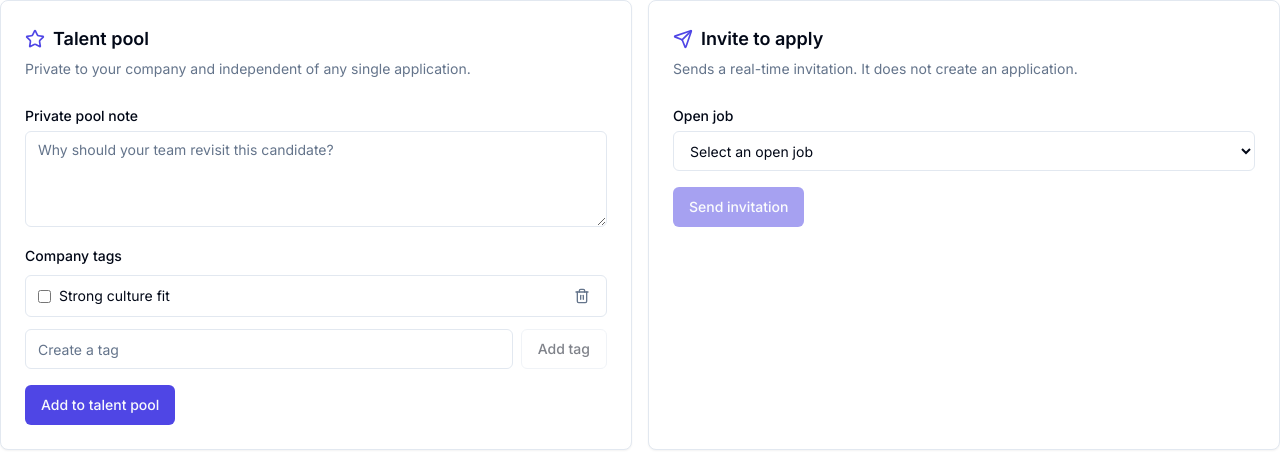
Scenario: TalentPoolSection › only offers open jobs and sends an invitation
Step 1. Select "Staff Engineer" in the dropdown labelled "Open job" → {"x": 964, "y": 151}, box x1=673 y1=131 x2=1255 y2=171
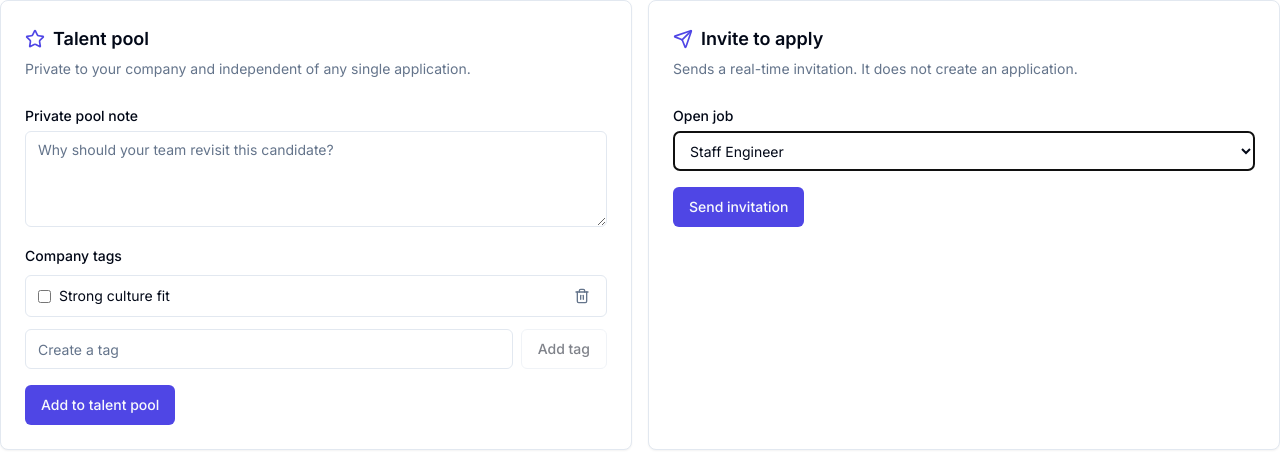
Step 2. Click the button "Send invitation" → {"x": 739, "y": 207}, box x1=673 y1=187 x2=804 y2=227
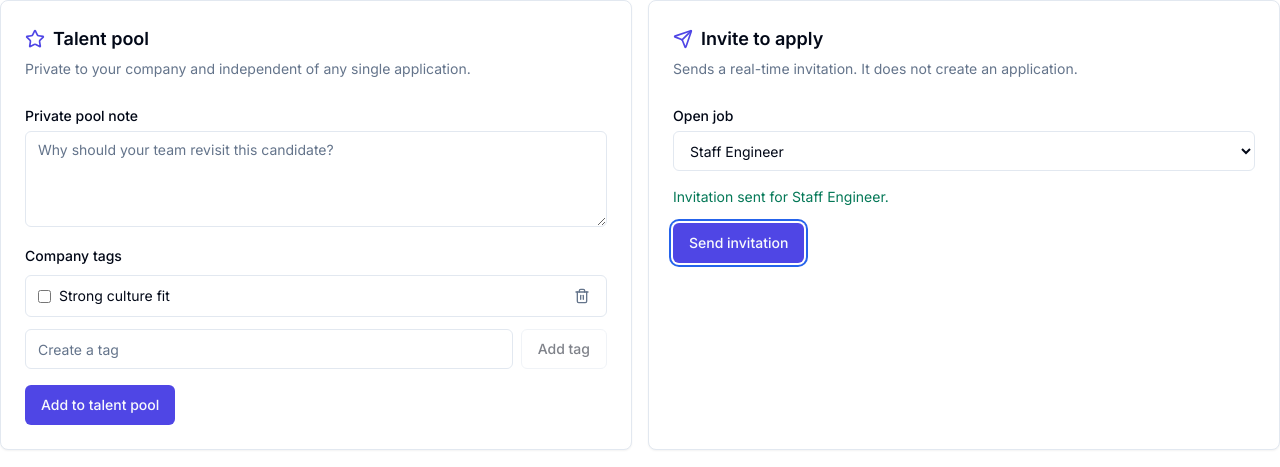
Now the message shows "Invitation sent for Staff Engineer", box x1=673 y1=188 x2=889 y2=205
